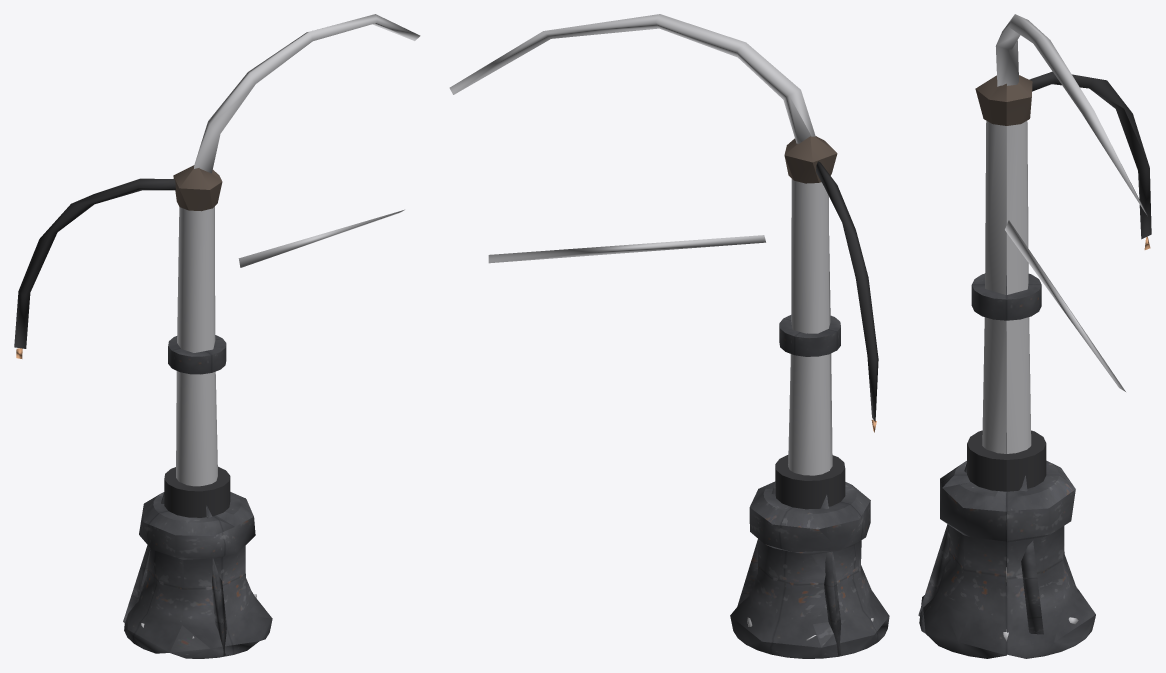
File: capsule_antenna_broken_lod2.glb
The picture shows the model from 3 angles, left to right: view 1: azimuth 30°, elevation 25°; view 2: azimuth 150°, elevation 25°; view 3: azimuth 270°, elevation 25°; orthographic projection. The views are drawn at different scales.
Visible parts, largest first — view 1: capsule_antenna_broken; view 2: capsule_antenna_broken; view 3: capsule_antenna_broken.
Part boxes in pixels (box(x1,y1,x2,y2)): capsule_antenna_broken: box(14, 14, 420, 658); capsule_antenna_broken: box(449, 14, 889, 658); capsule_antenna_broken: box(918, 14, 1151, 658).
Bounding box in the file's own units: 0.4771 × 0.6288 × 0.2001.
Materials: 6 (1 with a texture image).
